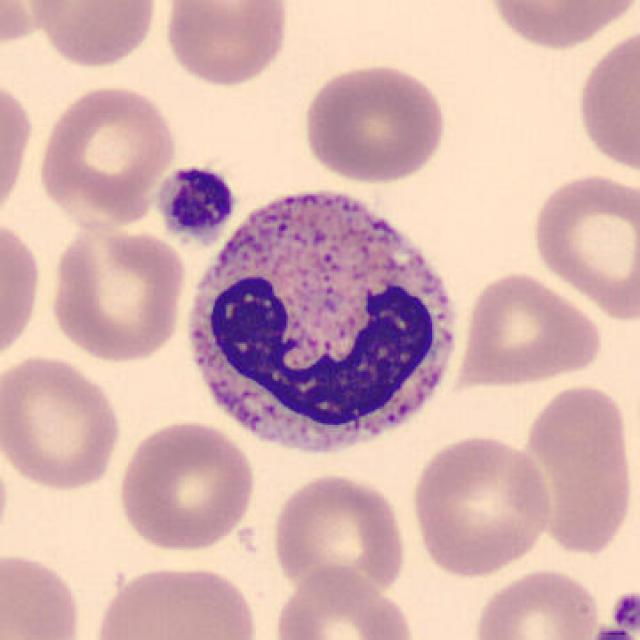Neutrophil: (174, 171, 473, 471)
Platelets: (151, 160, 238, 247), (606, 587, 640, 638), (586, 626, 636, 640)
RBC: (407, 430, 557, 578), (34, 79, 180, 231), (514, 379, 636, 559), (44, 220, 190, 365), (114, 416, 258, 555), (298, 58, 449, 185), (452, 268, 604, 391), (268, 469, 409, 599), (0, 351, 126, 494), (526, 168, 638, 322), (87, 559, 263, 640), (160, 0, 295, 90), (268, 566, 418, 640), (470, 564, 604, 640), (572, 23, 638, 176), (27, 0, 162, 71), (0, 546, 85, 640), (482, 0, 636, 51), (0, 213, 44, 366), (0, 72, 36, 228), (0, 0, 69, 49), (0, 435, 12, 564)
